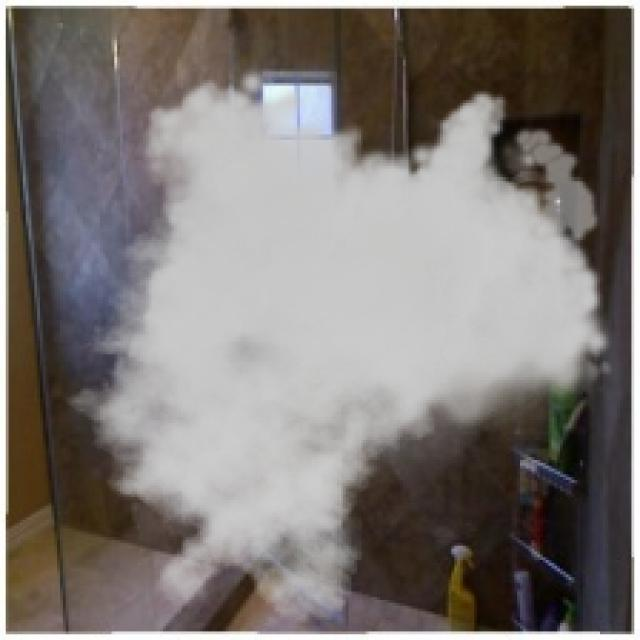smoke: (46, 65, 614, 626)
